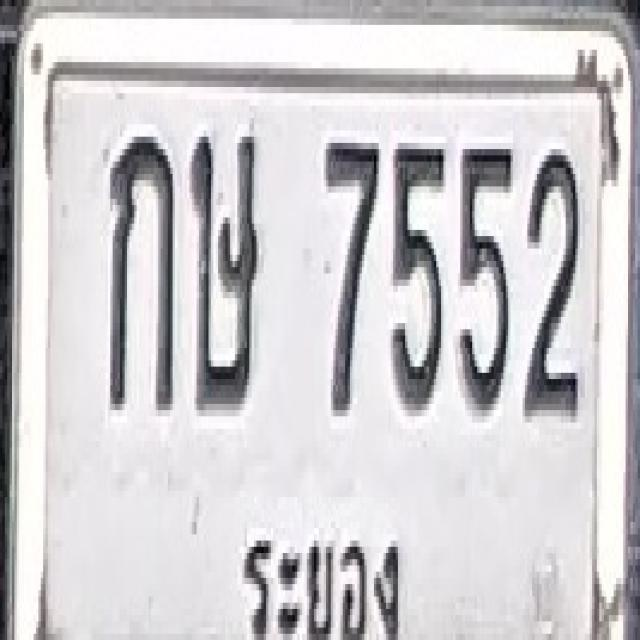2: (524, 149, 579, 416)
5: (391, 140, 446, 413), (458, 143, 513, 416)
7: (324, 137, 378, 416)
A01: (108, 131, 175, 410)
A39: (188, 131, 260, 410)
RYG: (241, 499, 412, 640)
